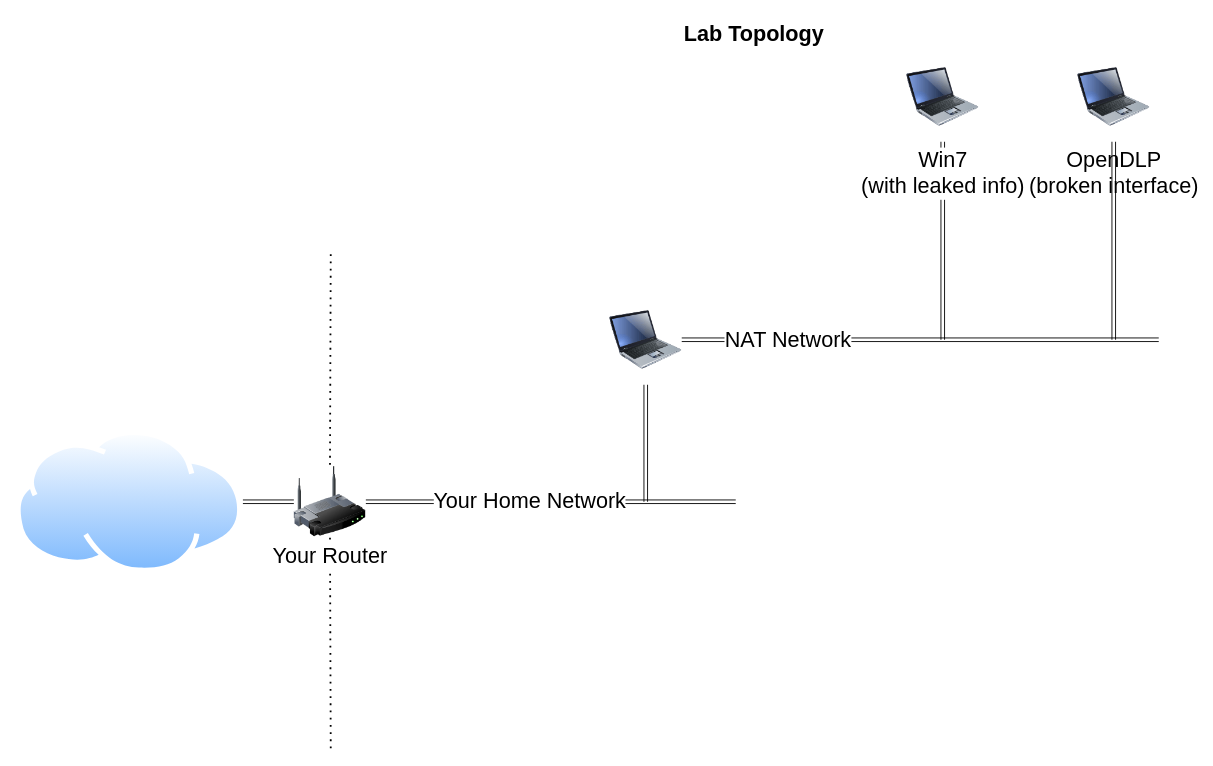
This 1213x766 diagram has some shape labels left out. Each missing label, with the box of its shape:
Host Machine: (609, 294, 681, 384)
Internet: (15, 430, 242, 573)
